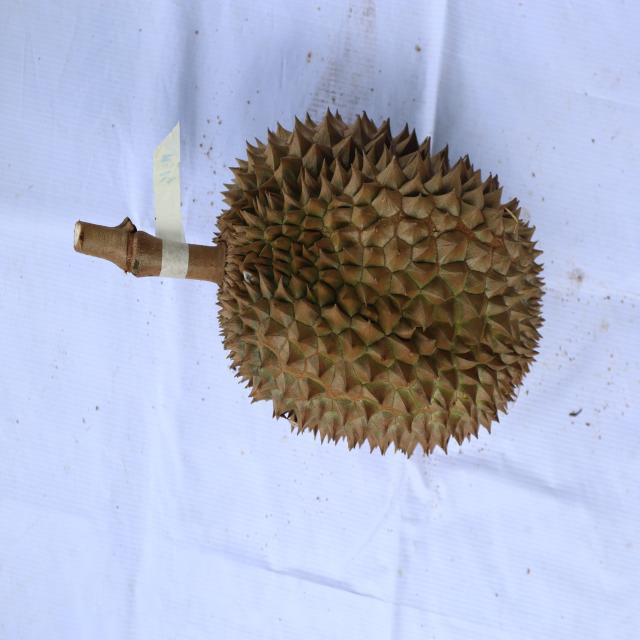mature: (211, 107, 547, 460)
